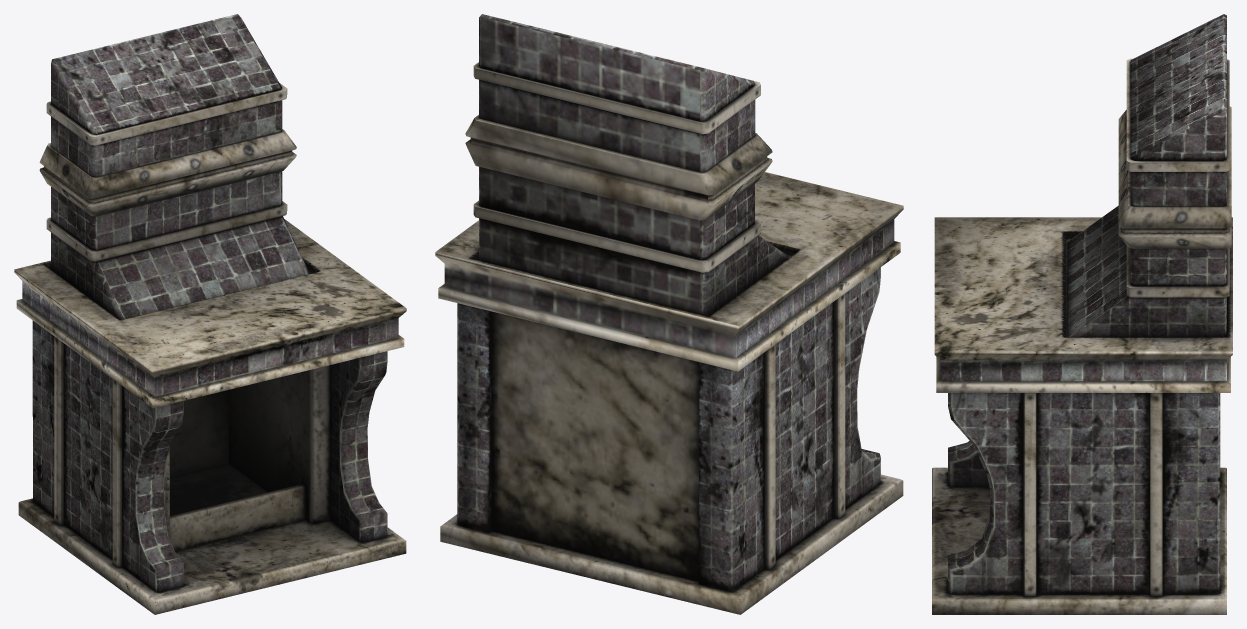
The model's file is stove_front02.dae.
3 views of the same model, side by side, from view 1: azimuth 30°, elevation 25°; view 2: azimuth 150°, elevation 25°; view 3: azimuth 270°, elevation 25° (orthographic). The views are drawn at different scales.
Visible parts, largest first — view 1: stove_front02_mesh1; view 2: stove_front02_mesh1; view 3: stove_front02_mesh1.
Part boxes in pixels (x1,y1,x2,y2): stove_front02_mesh1: [14, 14, 406, 614]; stove_front02_mesh1: [435, 14, 903, 614]; stove_front02_mesh1: [932, 14, 1232, 614].
Bounding box in the file's own units: 2.08 × 3.52 × 1.97.
